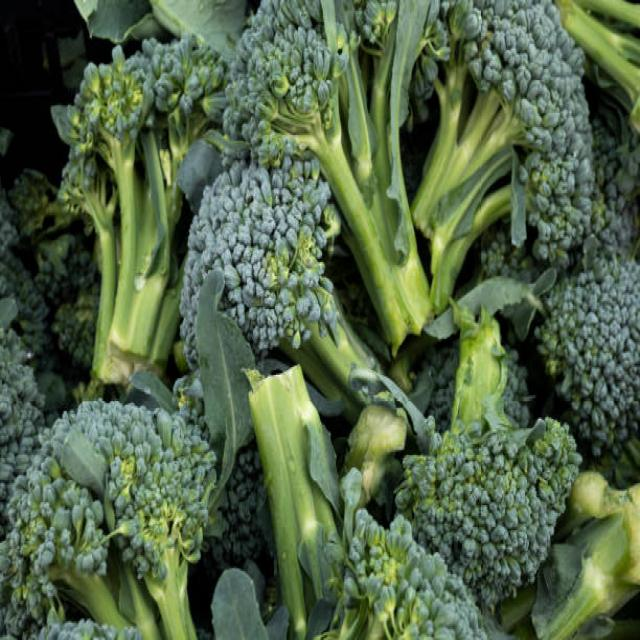broccoli: (331, 0, 590, 284), (222, 376, 429, 640), (54, 33, 190, 374), (23, 422, 203, 640), (437, 346, 582, 582), (193, 150, 356, 355)
